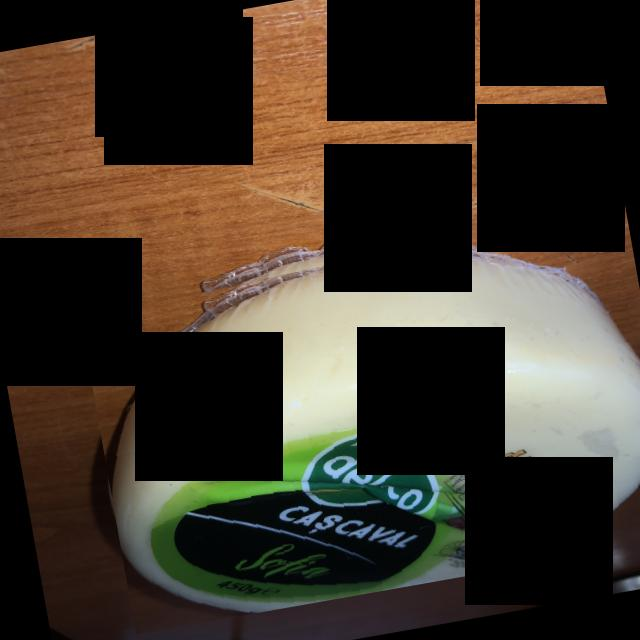cheese: (75, 198, 640, 633)
